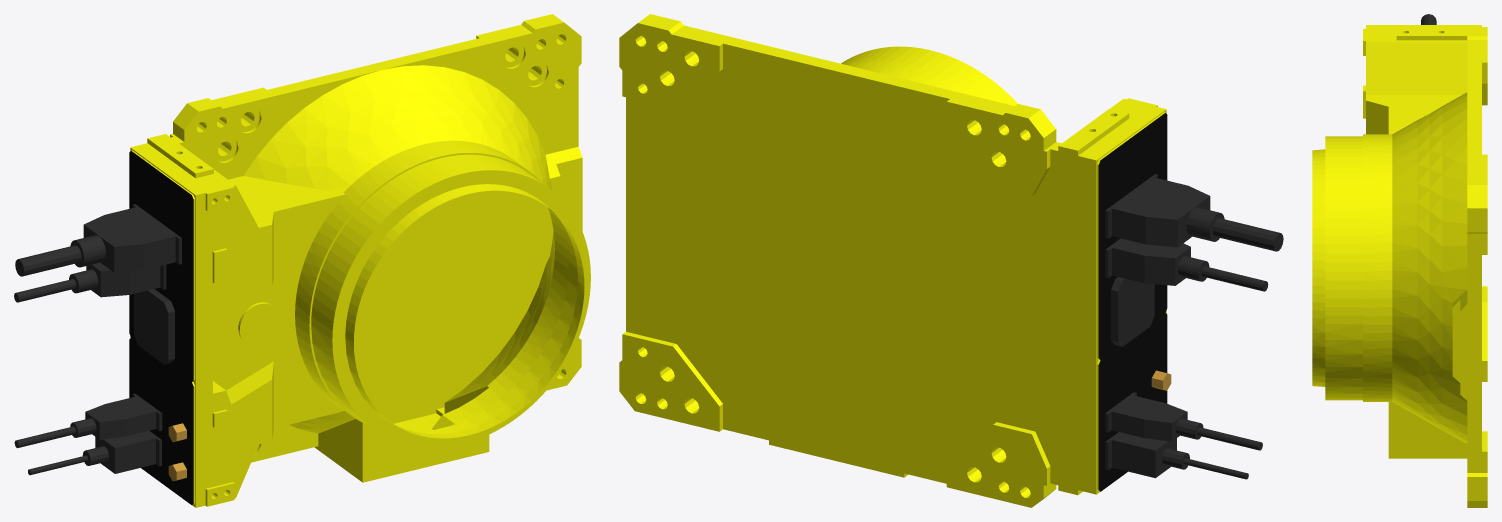
3 renders of one model, left to right at view 1: azimuth 30°, elevation 25°; view 2: azimuth 150°, elevation 25°; view 3: azimuth 270°, elevation 25°, orthographic. The views are drawn at different scales.
Visible parts, largest first — view 1: node; view 2: node; view 3: node.
Boxes of the visible parts, x1,y1,x2,y2 form: node: (14, 14, 590, 507); node: (619, 14, 1283, 507); node: (1312, 14, 1487, 507).
Size of the model in its own units: 1016 by 612 by 299.
